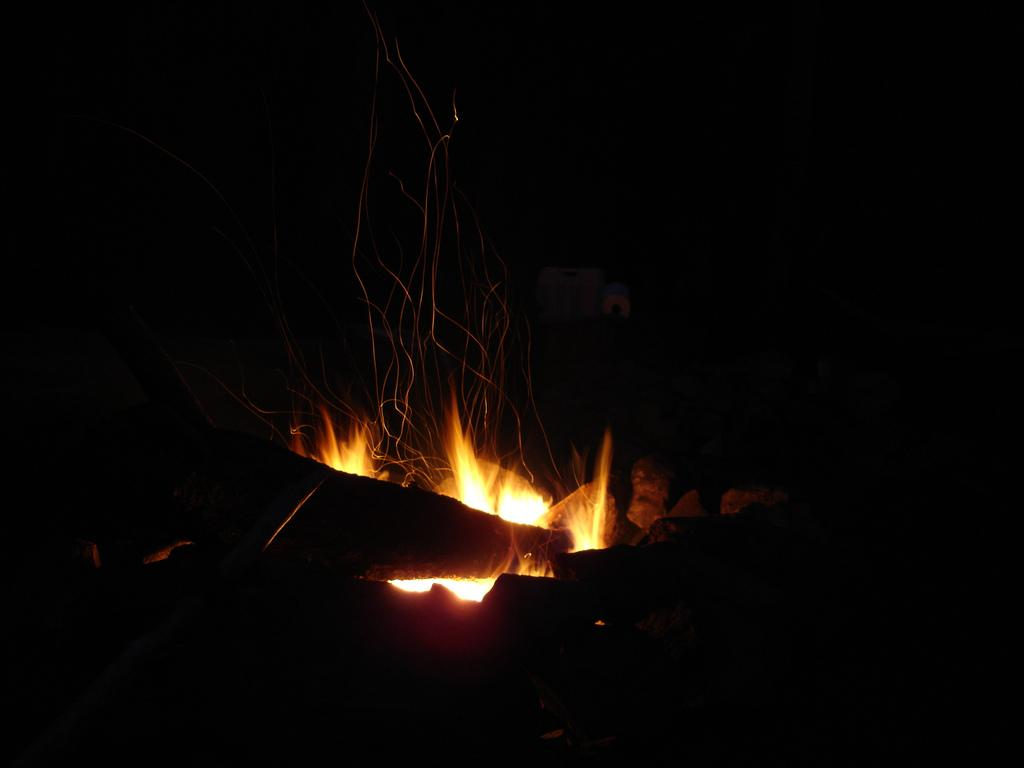fire: (466, 460, 556, 538)
